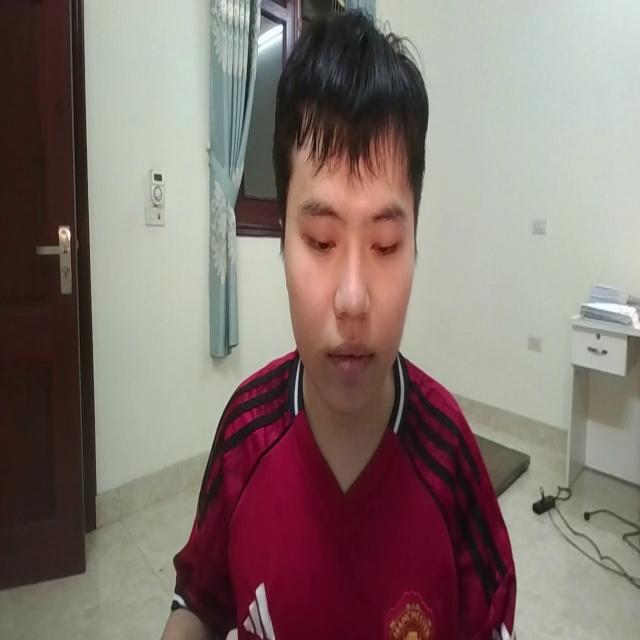student: (159, 6, 515, 640)
